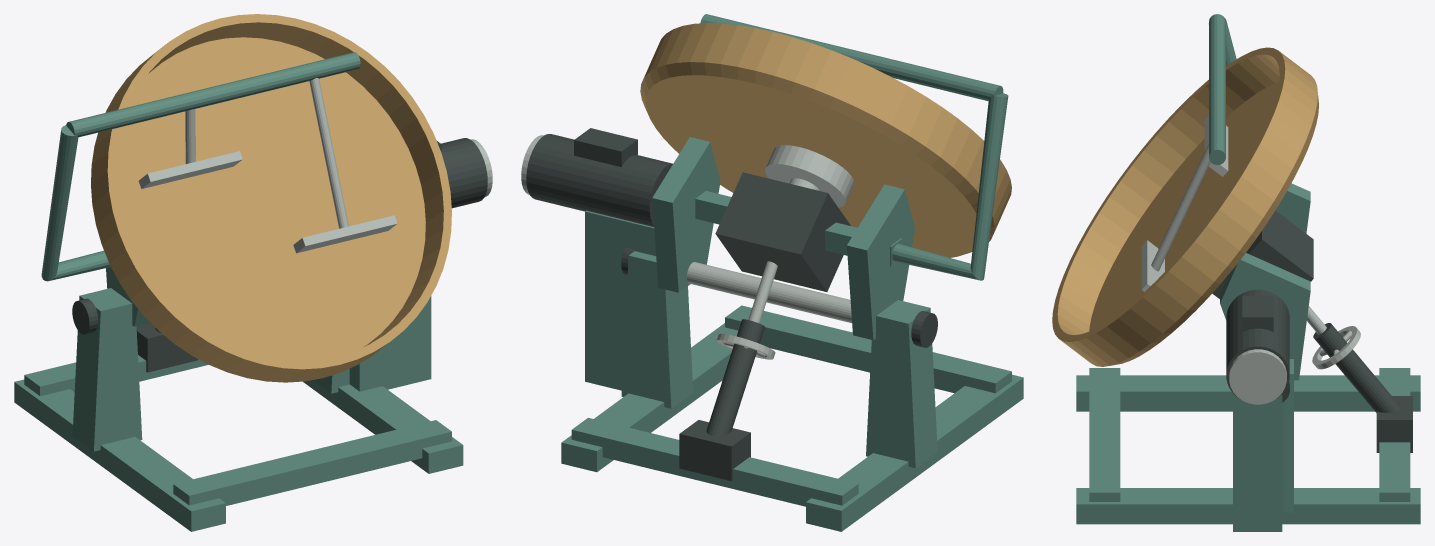
3 views of the same model, side by side, from view 1: azimuth 30°, elevation 25°; view 2: azimuth 150°, elevation 25°; view 3: azimuth 270°, elevation 25° (orthographic). The views are drawn at different scales.
Parts seen in each view (by area): view 1: WholeInclinedShallowBlindPan, WholeFrontGroundCrossTie, WholeLeftLowPivotStandard, WholeLeftLongGroundSkid, WholeAcrossPanStationaryScraperCrossarm, WholeRightLongGroundSkid, WholeMotorSupportPedestal, WholeLateralStationaryScraperCantilever, WholeOutboardHorizontalMotor, WholeRearGroundCrossTie, WholeRearAdjusterBaseBlock, WholeLowerScraperStem (+5 smaller); view 2: WholeInclinedShallowBlindPan, WholeInclinedRearDriveCase, WholeLeftLowPivotStandard, WholeRightLowPivotStandard, WholeOutboardHorizontalMotor, WholeLeftLongGroundSkid, WholeRearGroundCrossTie, WholeMotorSupportPedestal, WholeRightInclinedPanCarrierPlate, WholeLeftInclinedPanCarrierPlate, WholeFrontGroundCrossTie, WholeRightLongGroundSkid (+11 smaller); view 3: WholeInclinedShallowBlindPan, WholeRightLongGroundSkid, WholeLeftLongGroundSkid, WholeMotorSupportPedestal, WholeFrontGroundCrossTie, WholeRightInclinedPanCarrierPlate, WholeOutboardHorizontalMotor, WholeInclinedRearDriveCase, WholeRearGroundCrossTie, WholeMotorEndCap, WholeAcrossPanStationaryScraperCrossarm, WholeInclinedAdjusterLowerBarrel (+8 smaller).
Boxes of the visible parts, left/top/right/bottom form: WholeInclinedShallowBlindPan: left=91, top=14, right=451, bottom=382; WholeFrontGroundCrossTie: left=173, top=420, right=451, bottom=505; WholeLeftLowPivotStandard: left=72, top=288, right=142, bottom=451; WholeLeftLongGroundSkid: left=14, top=379, right=225, bottom=531; WholeAcrossPanStationaryScraperCrossarm: left=66, top=52, right=360, bottom=137; WholeRightLongGroundSkid: left=303, top=380, right=463, bottom=473; WholeMotorSupportPedestal: left=349, top=296, right=431, bottom=391; WholeLateralStationaryScraperCantilever: left=41, top=125, right=110, bottom=281; WholeOutboardHorizontalMotor: left=441, top=138, right=487, bottom=208; WholeRearGroundCrossTie: left=24, top=355, right=208, bottom=396; WholeRearAdjusterBaseBlock: left=136, top=323, right=198, bottom=372; WholeLowerScraperStem: left=309, top=78, right=348, bottom=228; WholeInclinedShallowBlindPan: left=640, top=23, right=1011, bottom=257; WholeInclinedRearDriveCase: left=715, top=172, right=850, bottom=291; WholeLeftLowPivotStandard: left=866, top=300, right=937, bottom=468; WholeRightLowPivotStandard: left=621, top=251, right=693, bottom=408; WholeOutboardHorizontalMotor: left=526, top=134, right=672, bottom=226; WholeLeftLongGroundSkid: left=806, top=374, right=1023, bottom=531; WholeRearGroundCrossTie: left=571, top=417, right=858, bottom=506; WholeMotorSupportPedestal: left=585, top=210, right=655, bottom=390; WholeRightInclinedPanCarrierPlate: left=652, top=137, right=720, bottom=292; WholeLeftInclinedPanCarrierPlate: left=847, top=184, right=914, bottom=340; WholeFrontGroundCrossTie: left=725, top=305, right=1011, bottom=393; WholeRightLongGroundSkid: left=561, top=323, right=738, bottom=472; WholeInclinedShallowBlindPan: left=1052, top=47, right=1318, bottom=366; WholeRightLongGroundSkid: left=1076, top=488, right=1420, bottom=524; WholeLeftLongGroundSkid: left=1076, top=375, right=1420, bottom=411; WholeMotorSupportPedestal: left=1233, top=393, right=1282, bottom=531; WholeFrontGroundCrossTie: left=1089, top=368, right=1120, bottom=501; WholeRightInclinedPanCarrierPlate: left=1220, top=253, right=1310, bottom=380; WholeOutboardHorizontalMotor: left=1226, top=289, right=1289, bottom=399; WholeInclinedRearDriveCase: left=1212, top=210, right=1313, bottom=298; WholeRearGroundCrossTie: left=1379, top=368, right=1410, bottom=501; WholeMotorEndCap: left=1229, top=349, right=1286, bottom=404; WholeAcrossPanStationaryScraperCrossarm: left=1209, top=14, right=1225, bottom=164; WholeInclinedAdjusterLowerBarrel: left=1313, top=323, right=1400, bottom=412.
Bounding box in the file's own units: 1.89 × 1.66 × 1.42.
